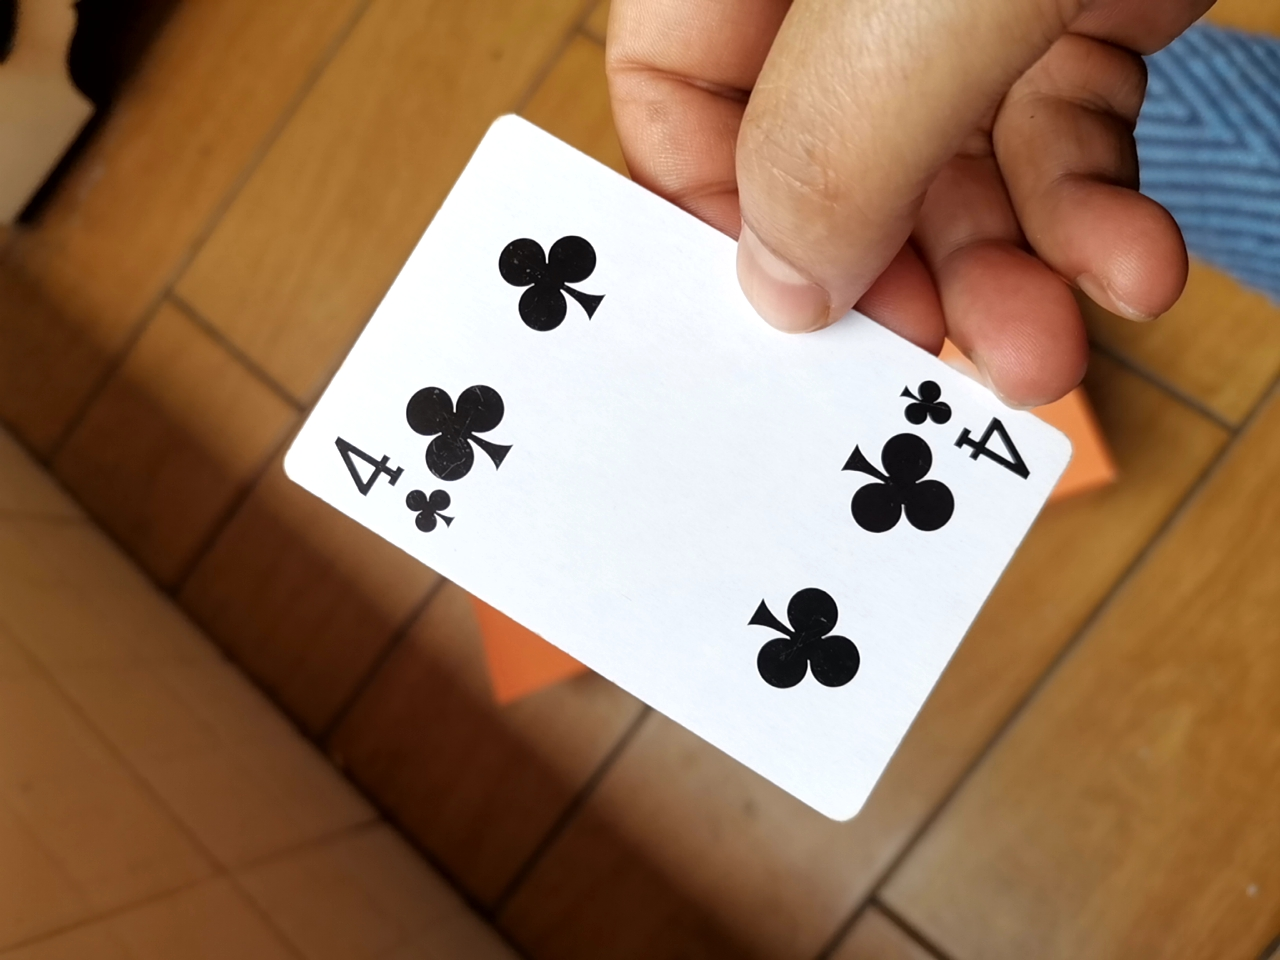mh 4: (256, 109, 1086, 834)
